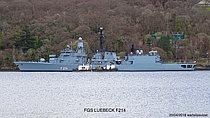MIL_Ship: (14, 37, 197, 72)
